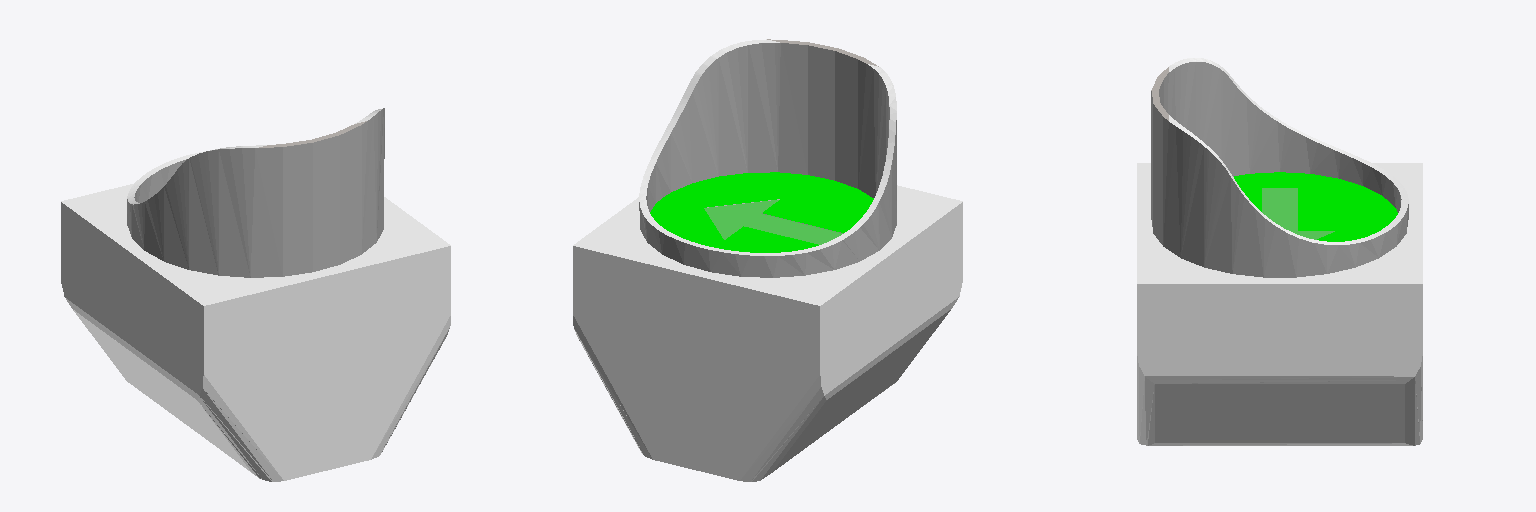
File: fos_pravo.obj
3 renders of one model, left to right at view 1: azimuth 30°, elevation 25°; view 2: azimuth 150°, elevation 25°; view 3: azimuth 270°, elevation 25°, orthographic.
Visible parts, largest first — view 1: ________0; view 2: ________0; view 3: ________0.
Boxes of the visible parts, x1,y1,x2,y2 form: ________0: [61, 108, 450, 481]; ________0: [573, 39, 962, 481]; ________0: [1137, 58, 1422, 445].
Bounding box in the file's own units: 0.008 × 0.01 × 0.008.